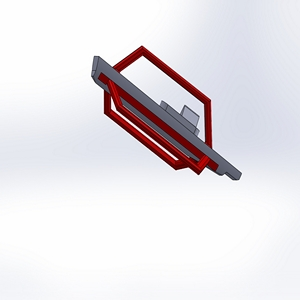submarine: (70, 42, 258, 196)
